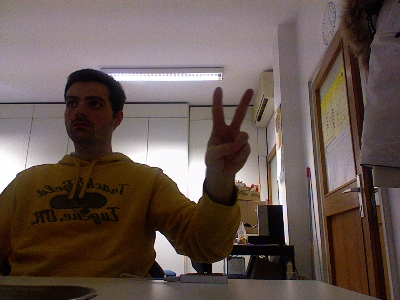剪刀: (203, 84, 254, 176)
